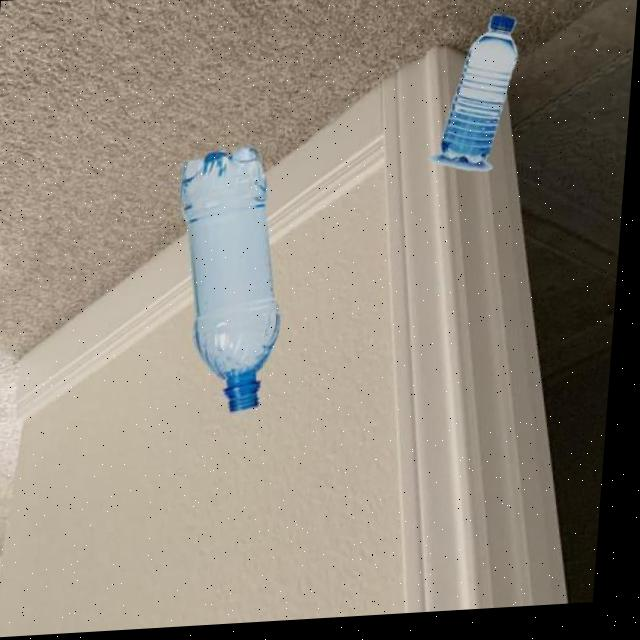bottle: (169, 147, 297, 420), (432, 18, 524, 182)
